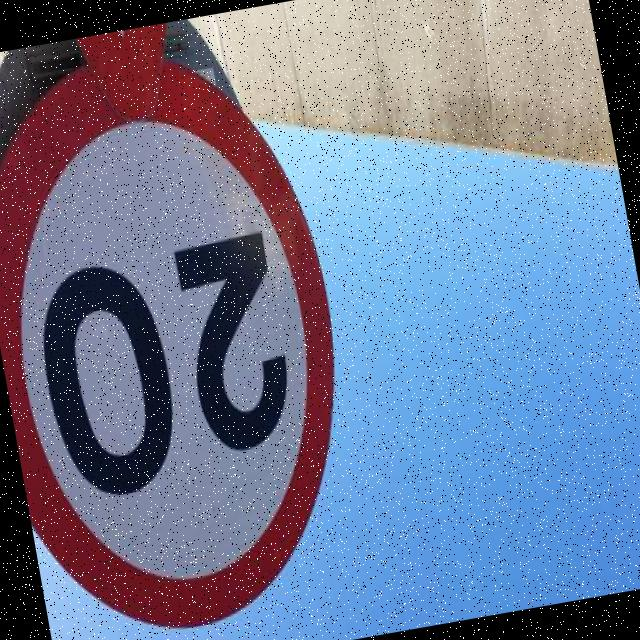speed_limit_20: (0, 59, 386, 640)
